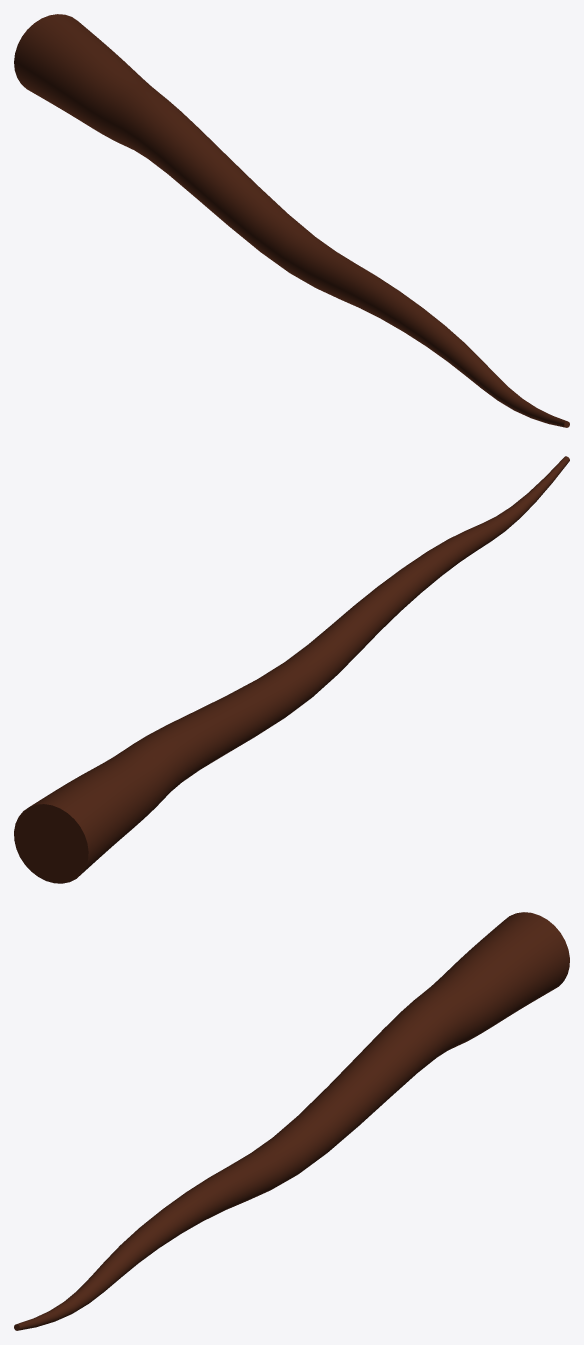
File: Fallen_Tree.fbx
The picture shows the model from 3 angles, top to bottom: view 1: azimuth 30°, elevation 25°; view 2: azimuth 150°, elevation 25°; view 3: azimuth 330°, elevation 25°; orthographic projection.
Visible parts, largest first — view 1: nurbsToPoly1; view 2: nurbsToPoly1; view 3: nurbsToPoly1.
Part boxes in pixels (bbox=[...]): nurbsToPoly1: bbox=[14, 14, 569, 427]; nurbsToPoly1: bbox=[14, 456, 569, 883]; nurbsToPoly1: bbox=[14, 912, 569, 1330].
Bounding box in the file's own units: 0.6101 × 0.6188 × 7.36.
